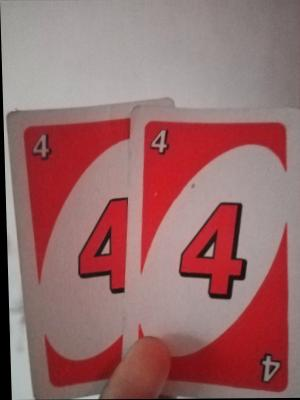num_4: (65, 192, 136, 302), (29, 121, 54, 168)
red: (131, 106, 300, 399)
